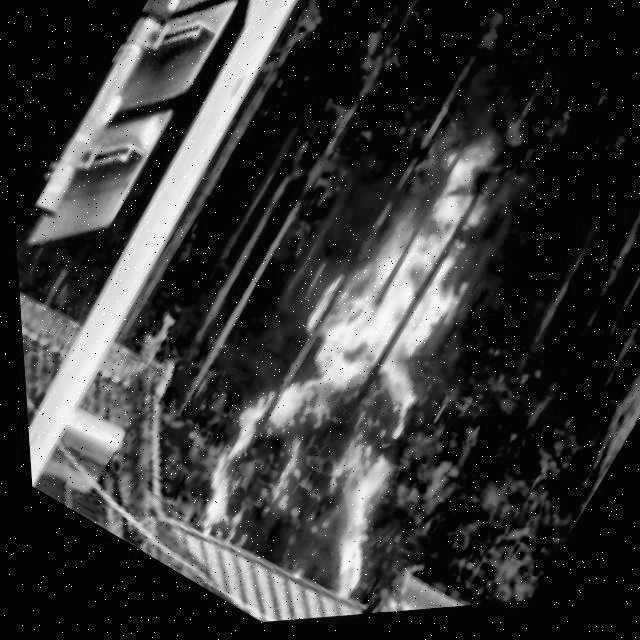Fire: (159, 105, 600, 619)
